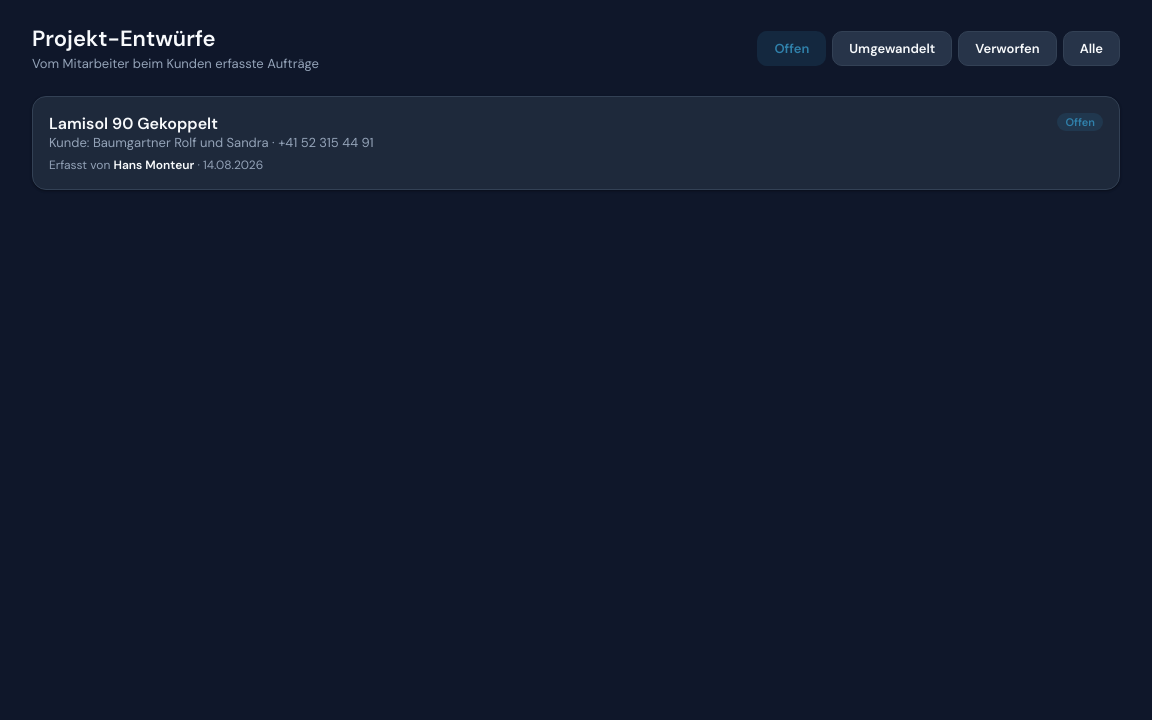
it: ProjectDraftsScreen — Herkunft eines Entwurfs › lässt den Mitarbeiter-Entwurf unverändert
The width and height of the screenshot is (1152, 720).
Click the text "Lamisol 90 Gekoppelt" at (133, 124), box left=49, top=113, right=218, bottom=134
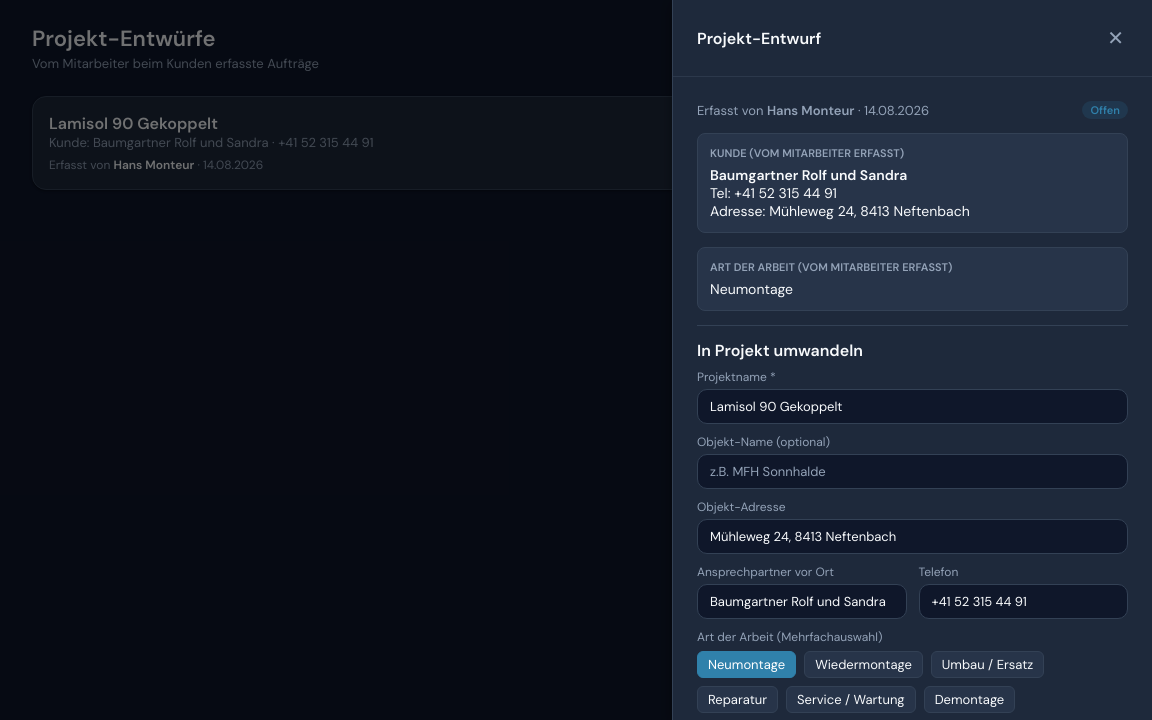
Expected: the text "Kunde (vom Mitarbeiter erfasst)" is shown, left=710, top=146, right=904, bottom=160
